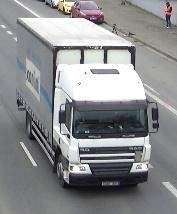car: (71, 0, 104, 24), (56, 0, 78, 13)
truck: (13, 16, 159, 188)
